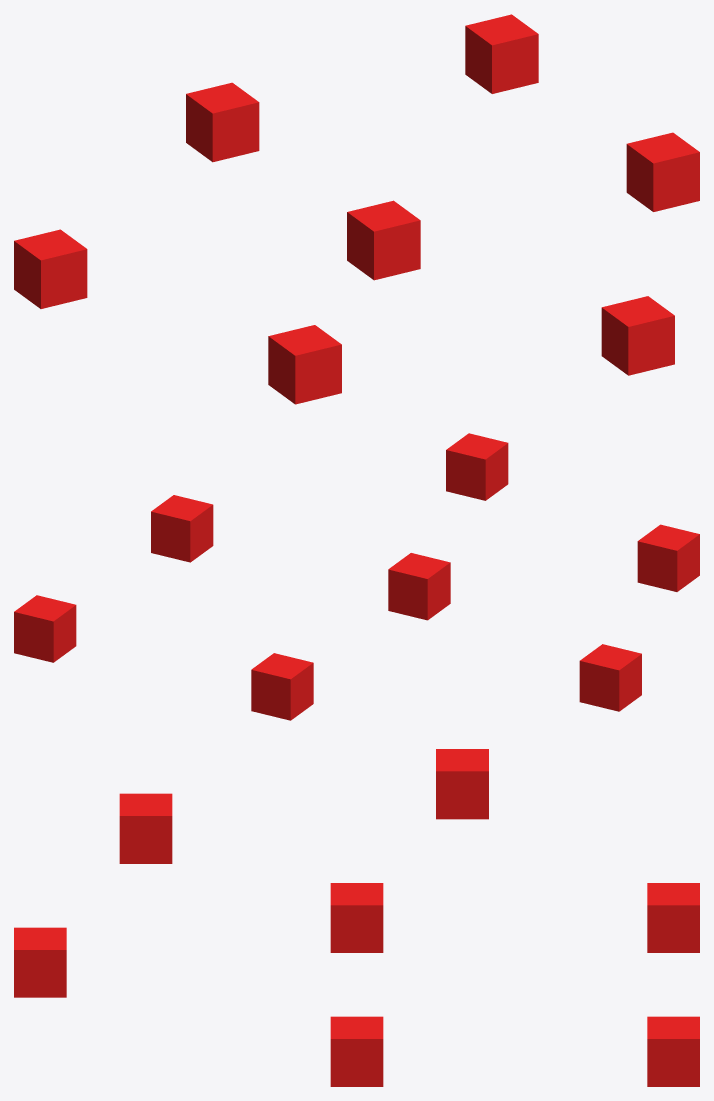
File: toamtoe_seed.obj
3 views of the same model, one above another, from view 1: azimuth 30°, elevation 25°; view 2: azimuth 150°, elevation 25°; view 3: azimuth 270°, elevation 25° (orthographic). The views are drawn at different scales.
Size of the model in its own units: 1.3 by 0.1 by 1.3.
Materials: 1 (1 with a texture image).
